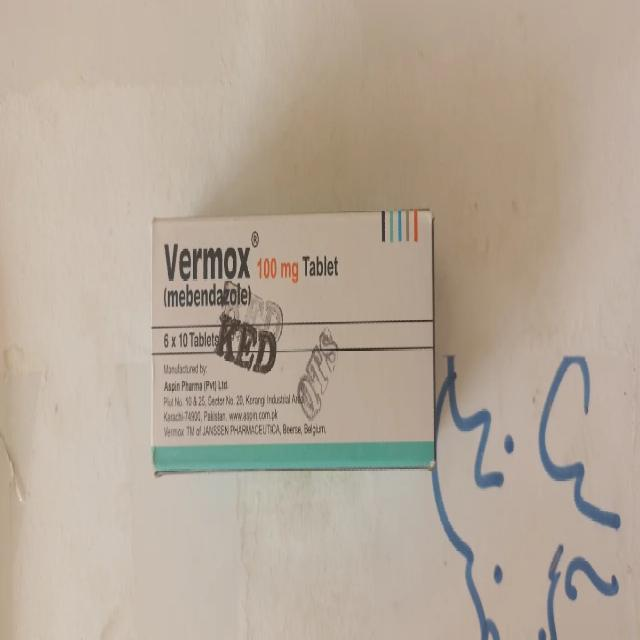drug-name: (159, 240, 253, 282)
